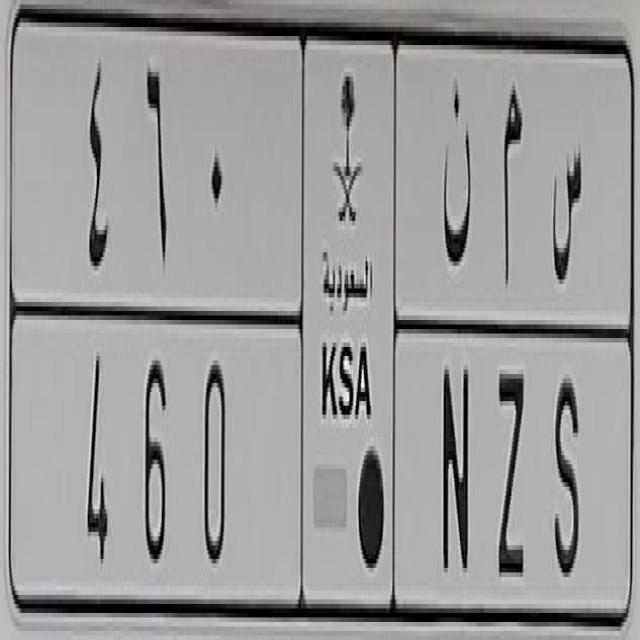license_plate: (8, 4, 636, 640)
